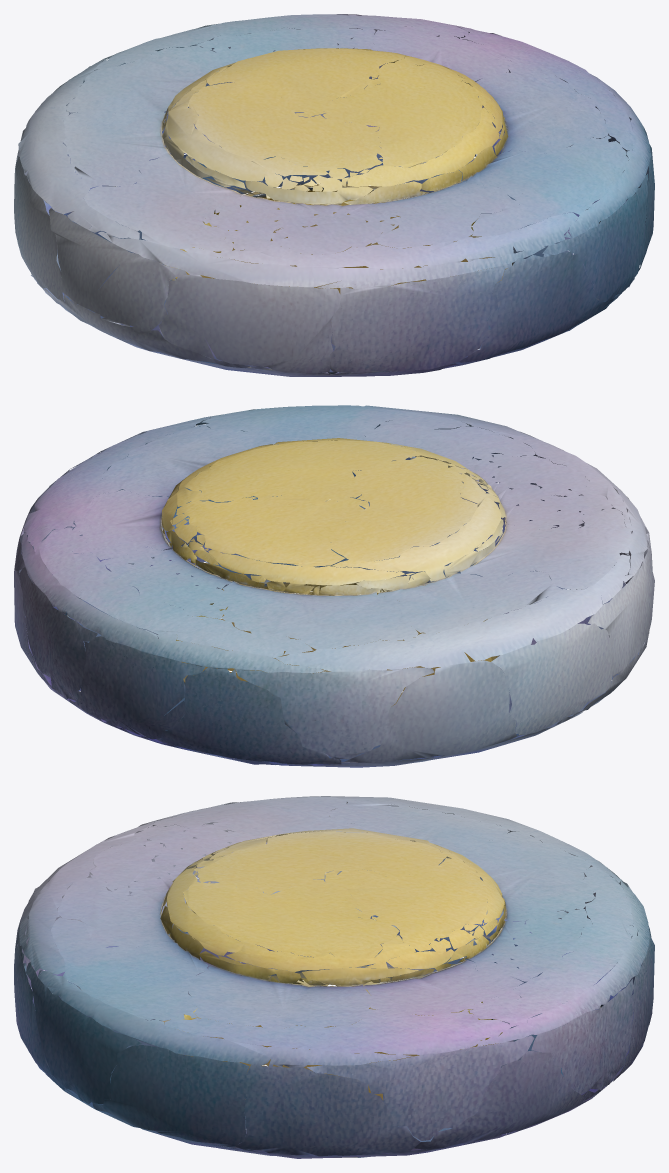
Rendered from Pastel Display Podium.glb.
The picture shows the model from 3 angles, top to bottom: view 1: azimuth 30°, elevation 25°; view 2: azimuth 150°, elevation 25°; view 3: azimuth 270°, elevation 25°; orthographic projection.
Parts seen in each view (by area): view 1: texture_mapping; view 2: texture_mapping; view 3: texture_mapping.
Part boxes in pixels (x1=…): texture_mapping: x1=14, y1=14, x2=654, y2=376; texture_mapping: x1=14, y1=405, x2=654, y2=767; texture_mapping: x1=14, y1=796, x2=654, y2=1158.
Size of the model in its own units: 1 by 0.3076 by 1.
Materials: 1 (1 with a texture image).
